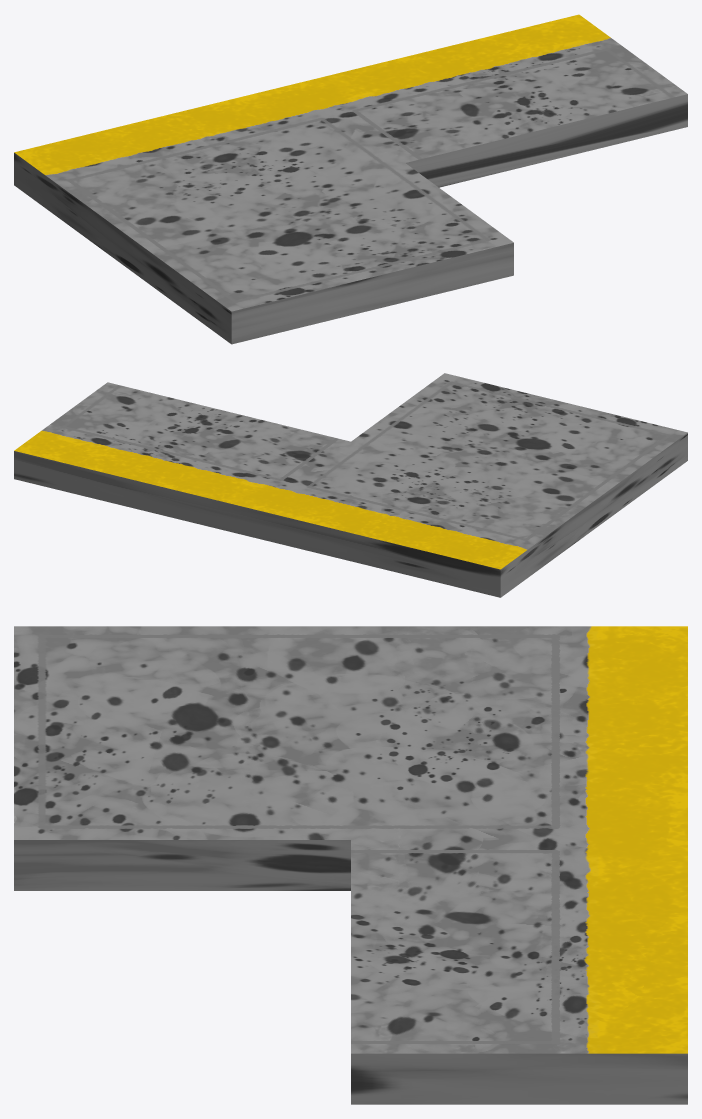
File: stairwayPlatform_MTAsubway.fbx
3 renders of one model, top to bottom at view 1: azimuth 30°, elevation 25°; view 2: azimuth 150°, elevation 25°; view 3: azimuth 270°, elevation 25°, orthographic. The views are drawn at different scales.
Visible parts, largest first — view 1: stairwayPlatform; view 2: stairwayPlatform; view 3: stairwayPlatform.
Boxes of the visible parts, x1=… form: stairwayPlatform: x1=14, y1=14, x2=687, y2=344; stairwayPlatform: x1=14, y1=373, x2=687, y2=597; stairwayPlatform: x1=14, y1=626, x2=687, y2=1104.
Bounding box in the file's own units: 3600 × 200 × 2400.
